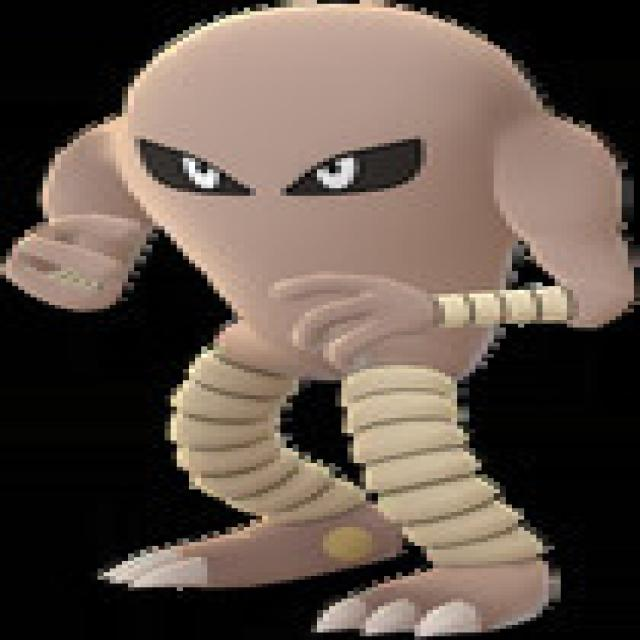Hitmonlee: (1, 0, 640, 640)
